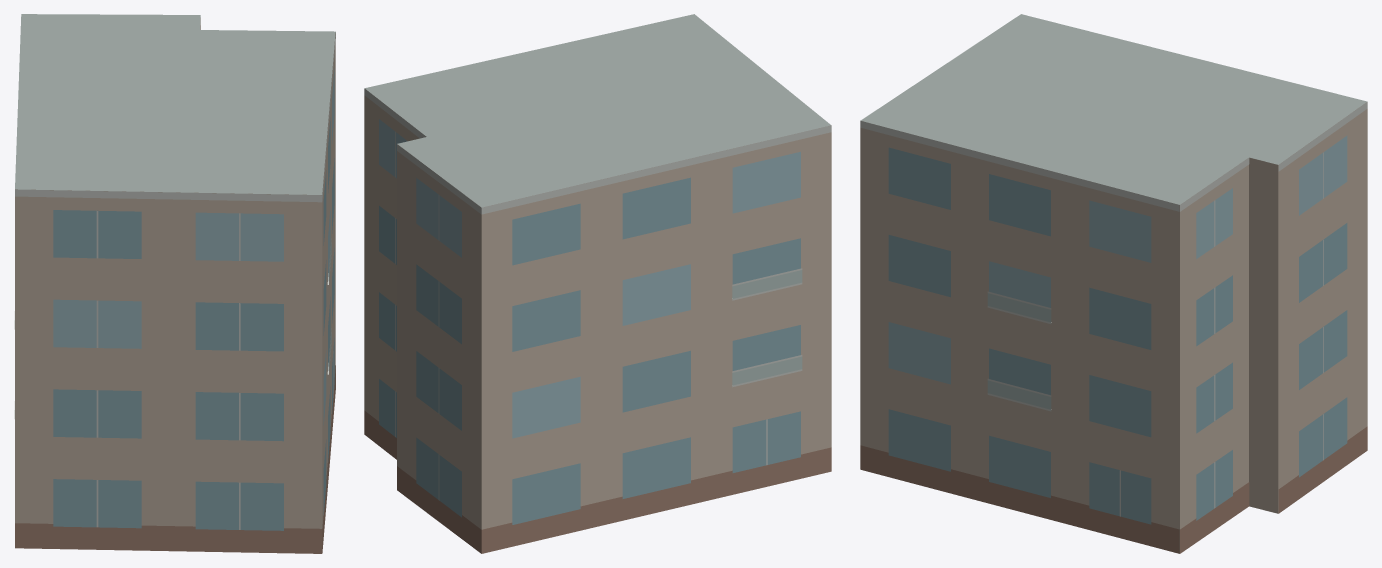
File: survey-upis-32524480.glb
3 renders of one model, left to right at view 1: azimuth 30°, elevation 25°; view 2: azimuth 150°, elevation 25°; view 3: azimuth 270°, elevation 25°, orthographic. The views are drawn at different scales.
Visible parts, largest first — view 1: survey-upis-32524480.tmp; view 2: survey-upis-32524480.tmp; view 3: survey-upis-32524480.tmp.
Part boxes in pixels (x1,y1,x2,y2): survey-upis-32524480.tmp: [14, 14, 335, 553]; survey-upis-32524480.tmp: [364, 14, 831, 553]; survey-upis-32524480.tmp: [860, 14, 1367, 553].
Size of the model in its own units: 14.33 by 12.2 by 16.08.
